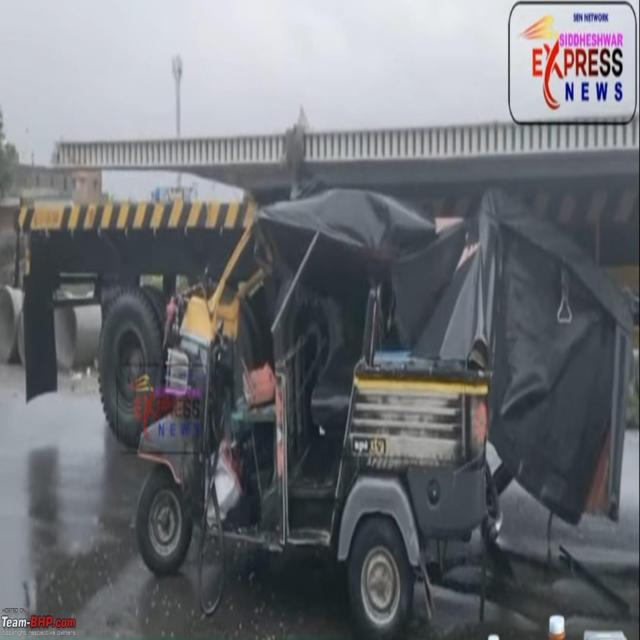accident: (136, 188, 631, 636)
